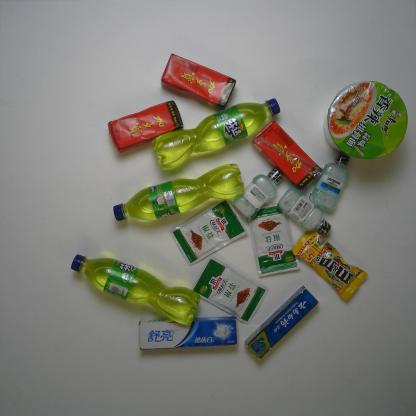Chocolate: (292, 228, 369, 302)
Drink: (70, 254, 202, 326), (151, 98, 280, 169), (112, 163, 245, 221), (251, 119, 323, 192), (160, 52, 236, 110), (107, 98, 184, 154)
Instant Noodles: (323, 80, 408, 161)
Personal Hygiene: (245, 285, 319, 361), (138, 316, 238, 350), (231, 165, 284, 221), (277, 186, 333, 236), (309, 152, 351, 212)
Seasoner: (191, 254, 268, 326), (169, 198, 249, 266), (247, 203, 300, 277)
